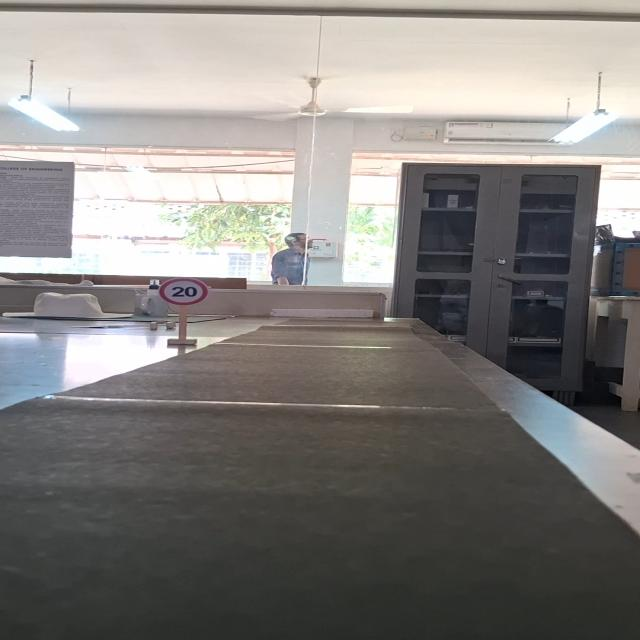Speed20: (156, 276, 210, 306)
